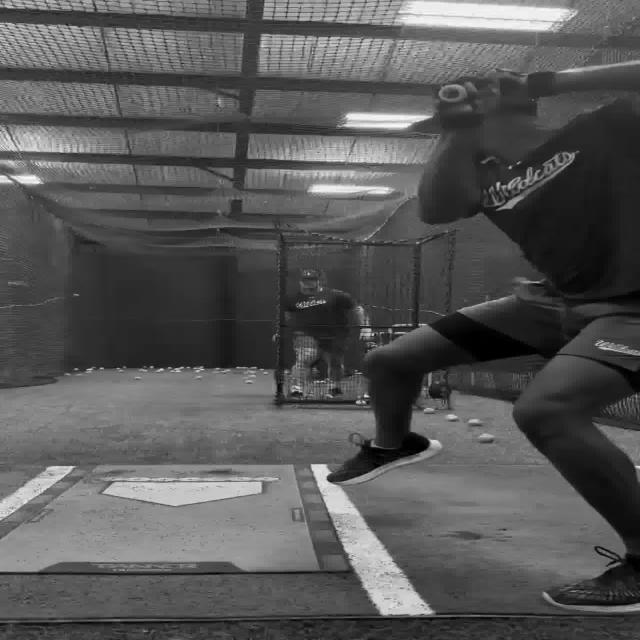baseball: (478, 432, 494, 442), (444, 414, 458, 422), (467, 418, 479, 424), (422, 408, 435, 413)
bat: (522, 57, 640, 87)
shoe: (541, 546, 639, 612), (325, 432, 443, 486), (324, 386, 342, 398), (354, 393, 370, 405), (289, 385, 304, 397)
